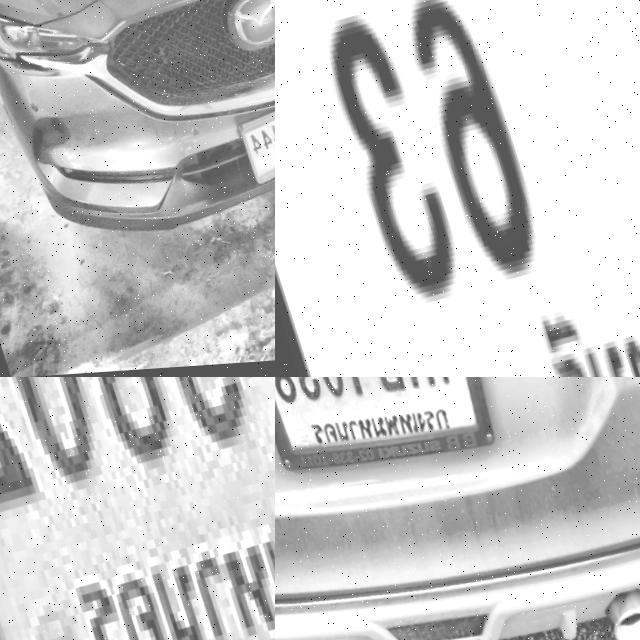license-plate: (275, 0, 640, 377), (0, 377, 275, 640), (275, 377, 506, 512), (223, 91, 275, 191)
